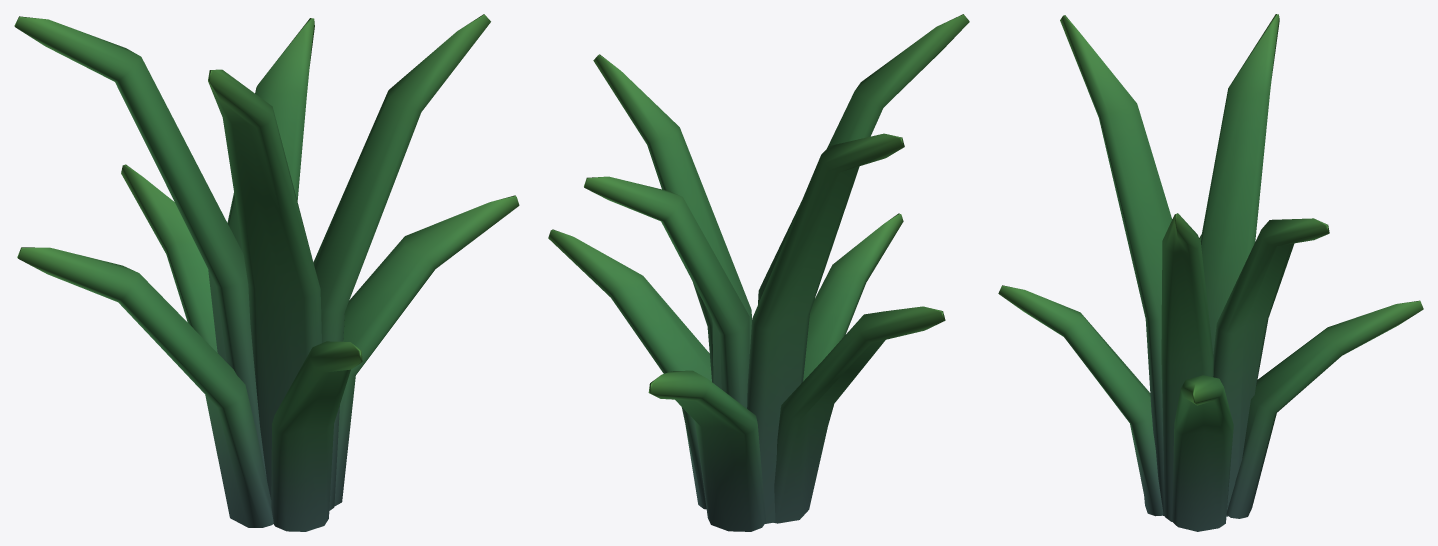
The model's file is Plants_011.fbx.
The picture shows the model from 3 angles, left to right: view 1: azimuth 30°, elevation 25°; view 2: azimuth 150°, elevation 25°; view 3: azimuth 270°, elevation 25°; orthographic projection. The views are drawn at different scales.
Parts seen in each view (by area): view 1: Plants.011; view 2: Plants.011; view 3: Plants.011.
Part boxes in pixels (box(x1,y1,x2,y2)): Plants.011: box(14, 14, 519, 531); Plants.011: box(548, 14, 969, 531); Plants.011: box(998, 14, 1423, 531).
Bounding box in the file's own units: 614 × 661 × 588.
